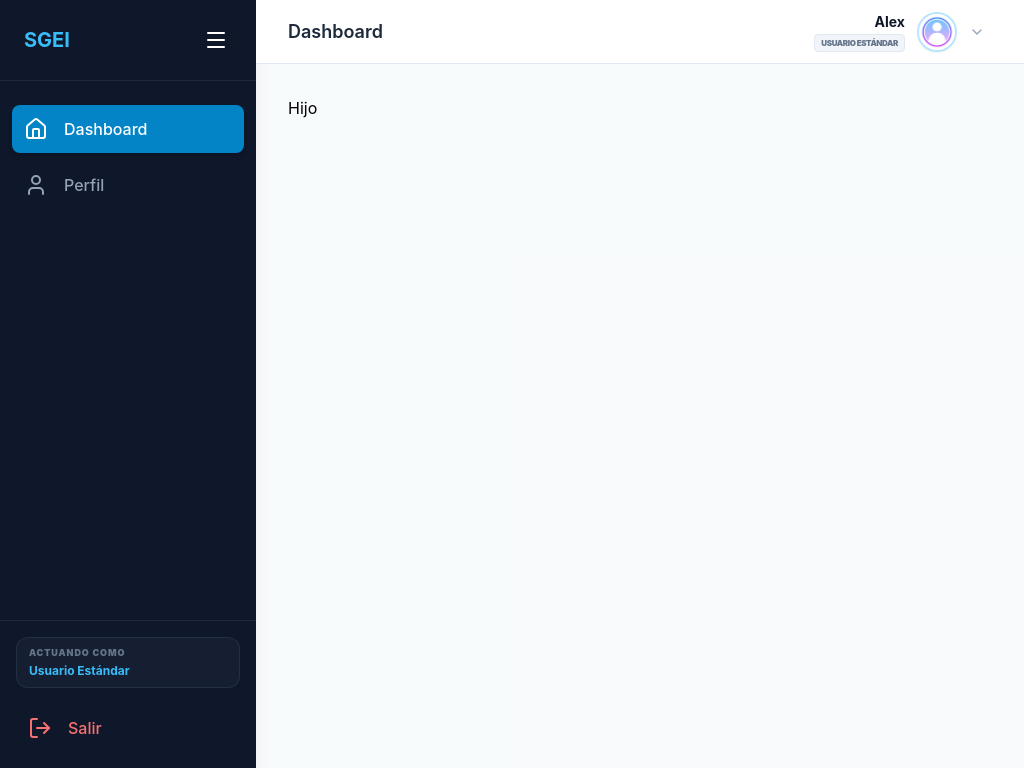
Test: Layout Component › debe limpiar la caché local desde el menú de usuario
Click the button "Alex Usuario Estándar". click: [900, 32]
box: [807,4,992,58]
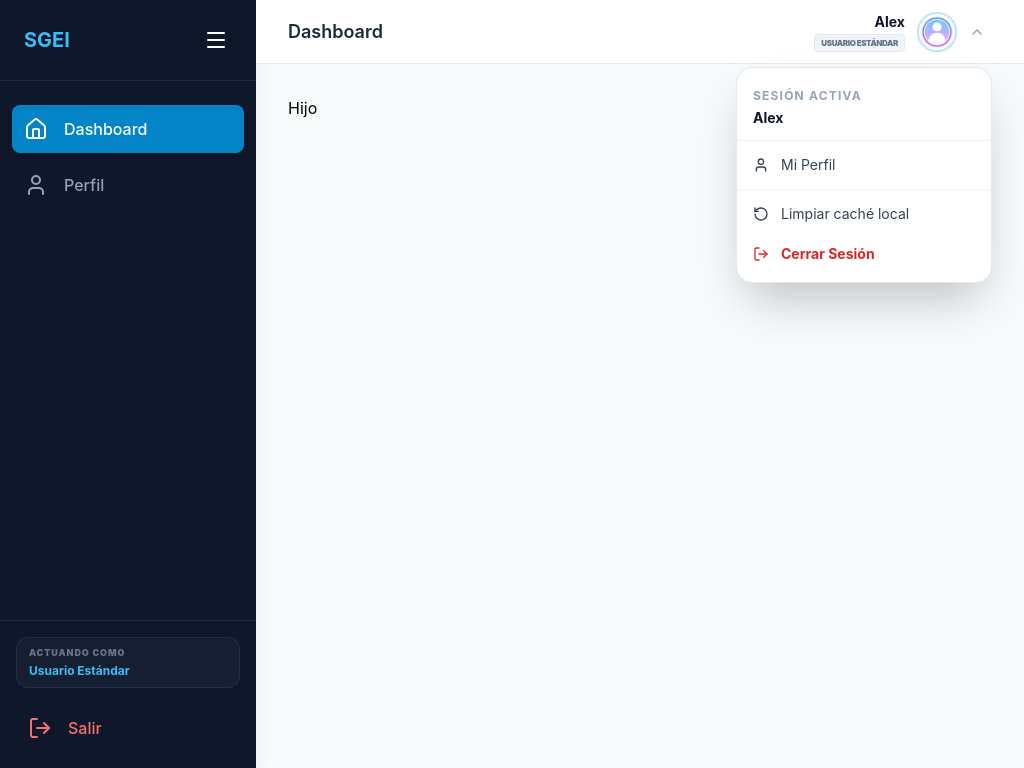
Click the button "Limpiar caché local". click: [864, 214]
box: [737,194,991,234]
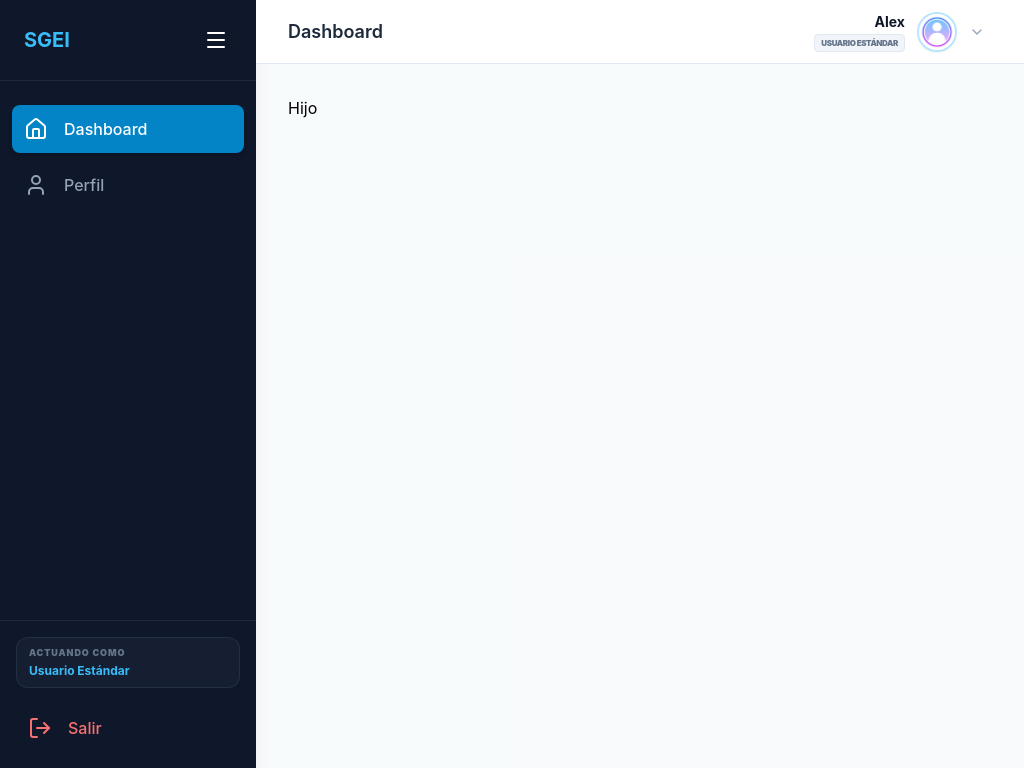
Expected: the link "Mi Perfil" is gone
